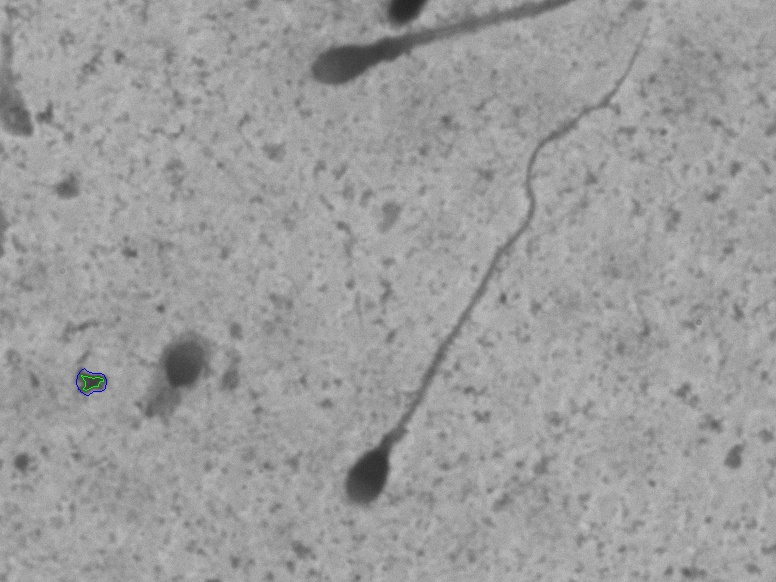Abnormal: (114, 312, 263, 467)
Normal: (313, 14, 665, 534)
